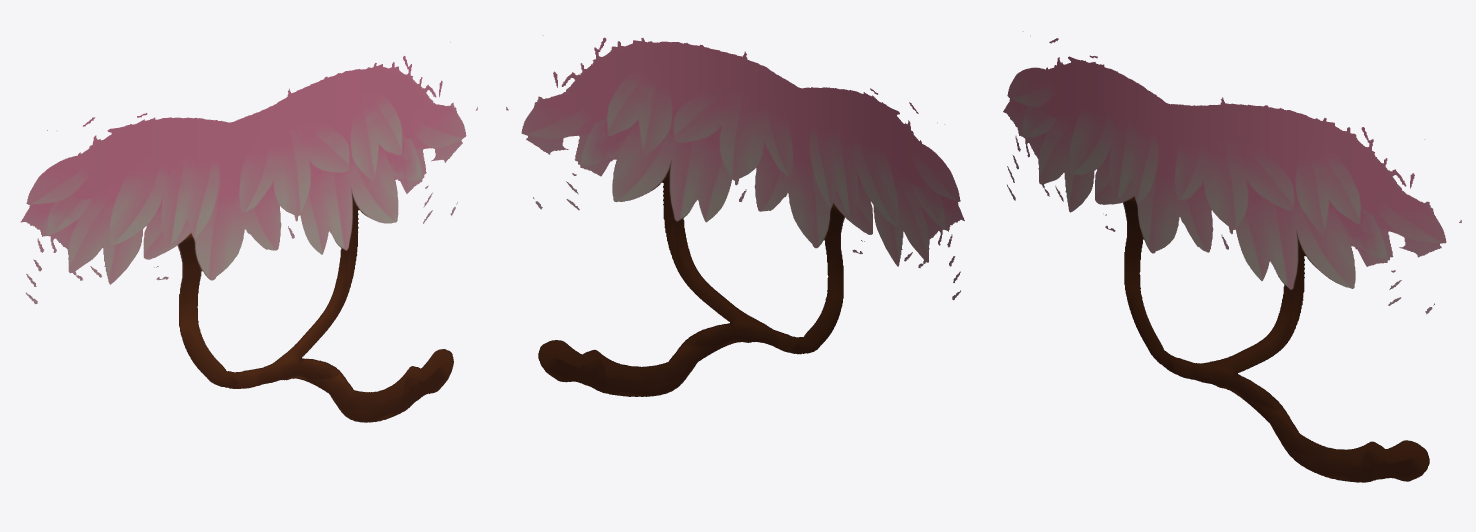
File: M_plante_arbre_3.FBX
The picture shows the model from 3 angles, left to right: view 1: azimuth 30°, elevation 25°; view 2: azimuth 150°, elevation 25°; view 3: azimuth 330°, elevation 25°; orthographic projection.
Parts seen in each view (by area): view 1: Plane188; view 2: Plane188; view 3: Plane188.
Part boxes in pixels (left/top/right/bottom): Plane188: left=20, top=42, right=477, bottom=422; Plane188: left=506, top=35, right=964, bottom=396; Plane188: left=1003, top=31, right=1461, bottom=482.
Size of the model in its own units: 498 by 402 by 50.03.
